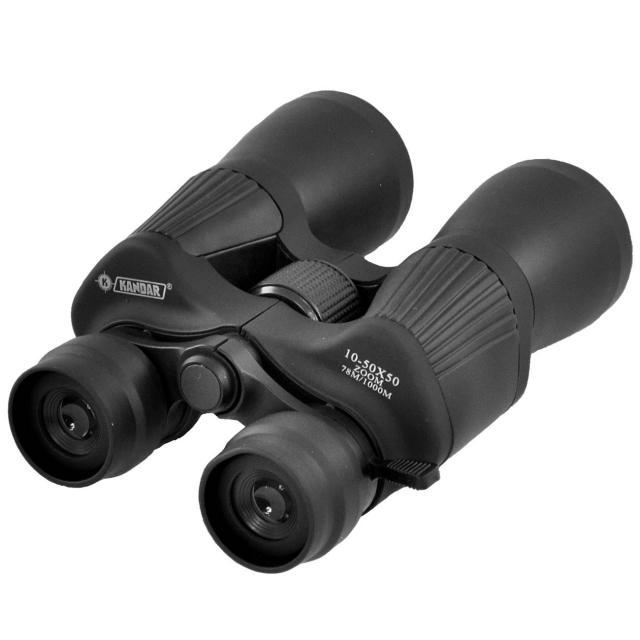Binocular: (1, 80, 635, 582)
